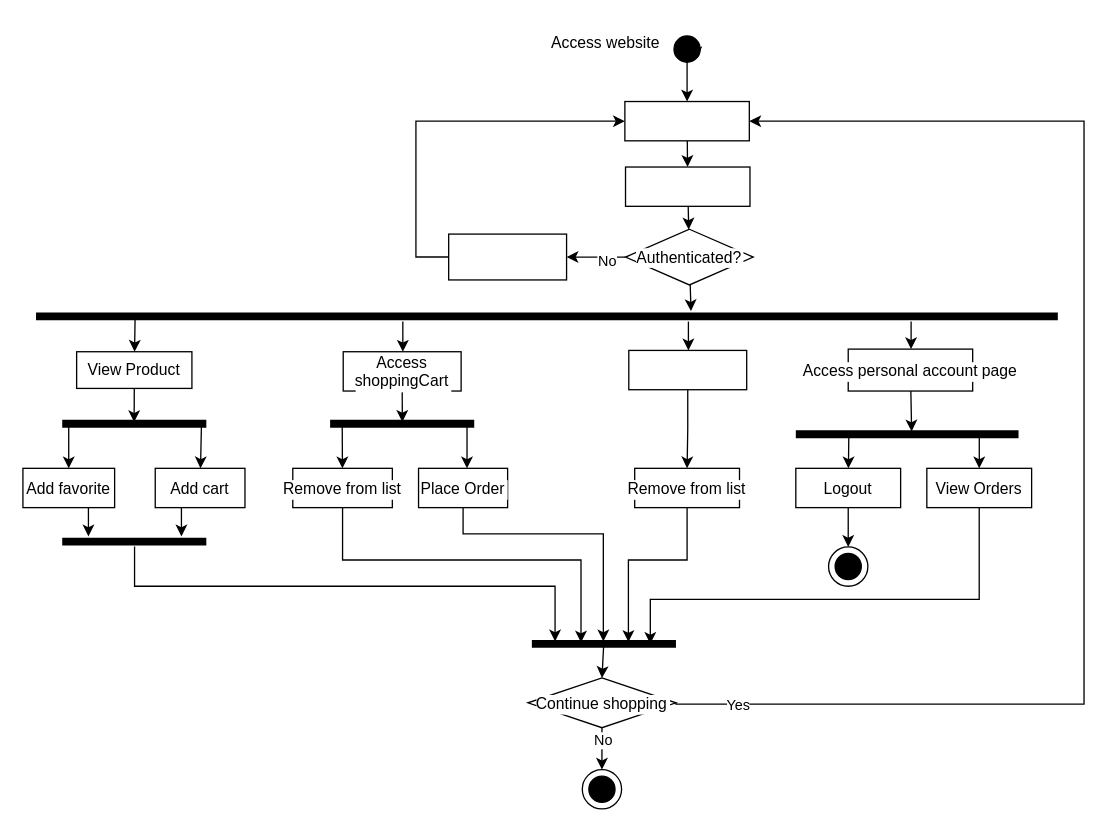
The diagram is 1117 pixels wide and 832 high, and some of its shapes have lost their labels. The shapes that lost their labels are listed below. From the top down, each one's centre as x and y in pixels, then its label:
At (686,120): "View products".
At (687,186): "Filter products".
At (507,256): "Access login_page".
At (687,369): "Access favorite list".
